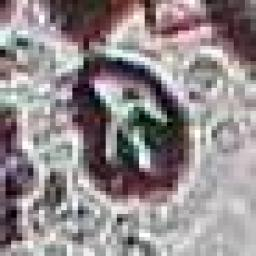crystals: (69, 50, 195, 209)
